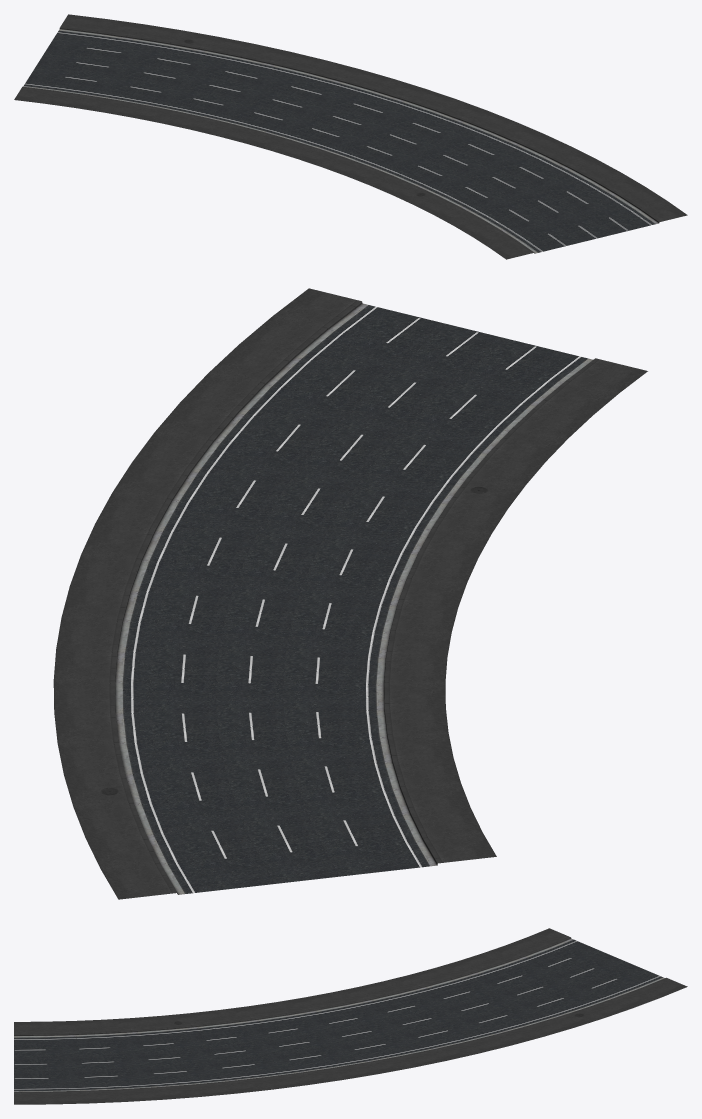
Rendered from city_road_4ways_45left.fbx.
The picture shows the model from 3 angles, top to bottom: view 1: azimuth 30°, elevation 25°; view 2: azimuth 150°, elevation 25°; view 3: azimuth 270°, elevation 25°; orthographic projection. The views are drawn at different scales.
Visible parts, largest first — view 1: obj0; view 2: obj0; view 3: obj0.
Boxes of the visible parts, x1,y1,x2,y2 form: obj0: (14,14,687,259); obj0: (53,288,647,899); obj0: (14,928,687,1104).
Size of the model in its own units: 94.77 by 0.254 by 153.
